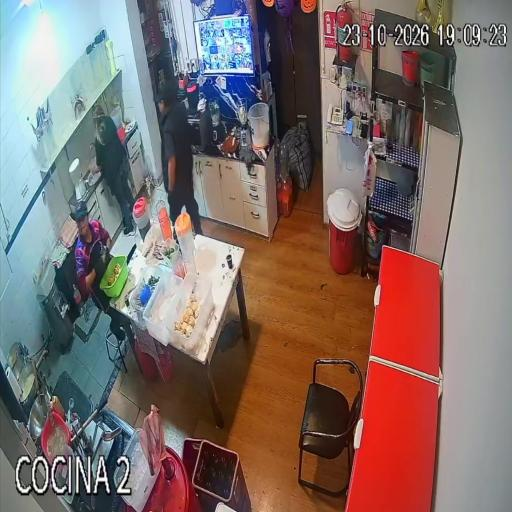Envase Ketchup: (51, 395, 64, 418)
Jarra1: (133, 197, 150, 238)
Jarra2: (174, 212, 195, 267)
Persona1: (159, 83, 202, 234)
Persona2: (93, 106, 133, 234)
Persona4: (75, 203, 110, 296)
Taper: (100, 256, 128, 297)
Taper2: (127, 265, 170, 330)
Taper3: (143, 271, 182, 346)
Taper4: (164, 274, 213, 360)
Taper5: (115, 430, 158, 512)
